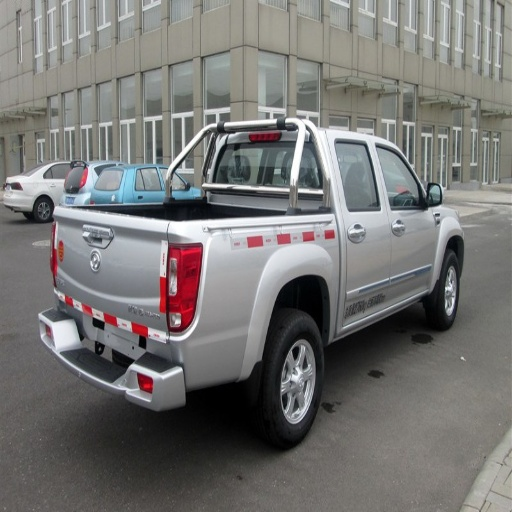trunk: (62, 195, 337, 383)
